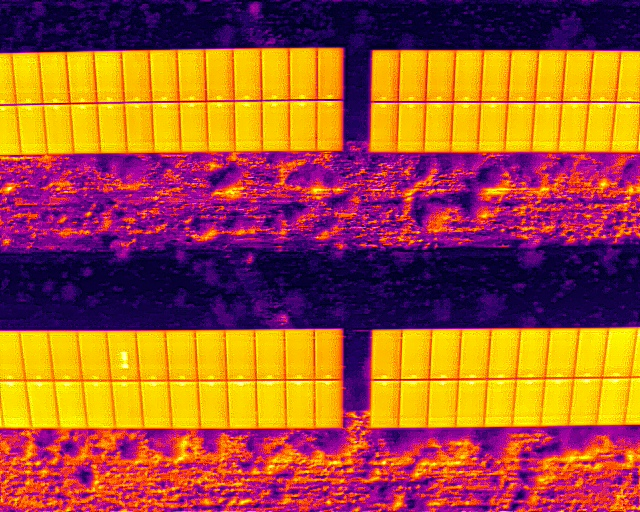photovoltaic_panels: (3, 46, 346, 155), (2, 327, 346, 429), (368, 47, 638, 154), (367, 324, 639, 428)
stripe_spot: (107, 330, 139, 381)
